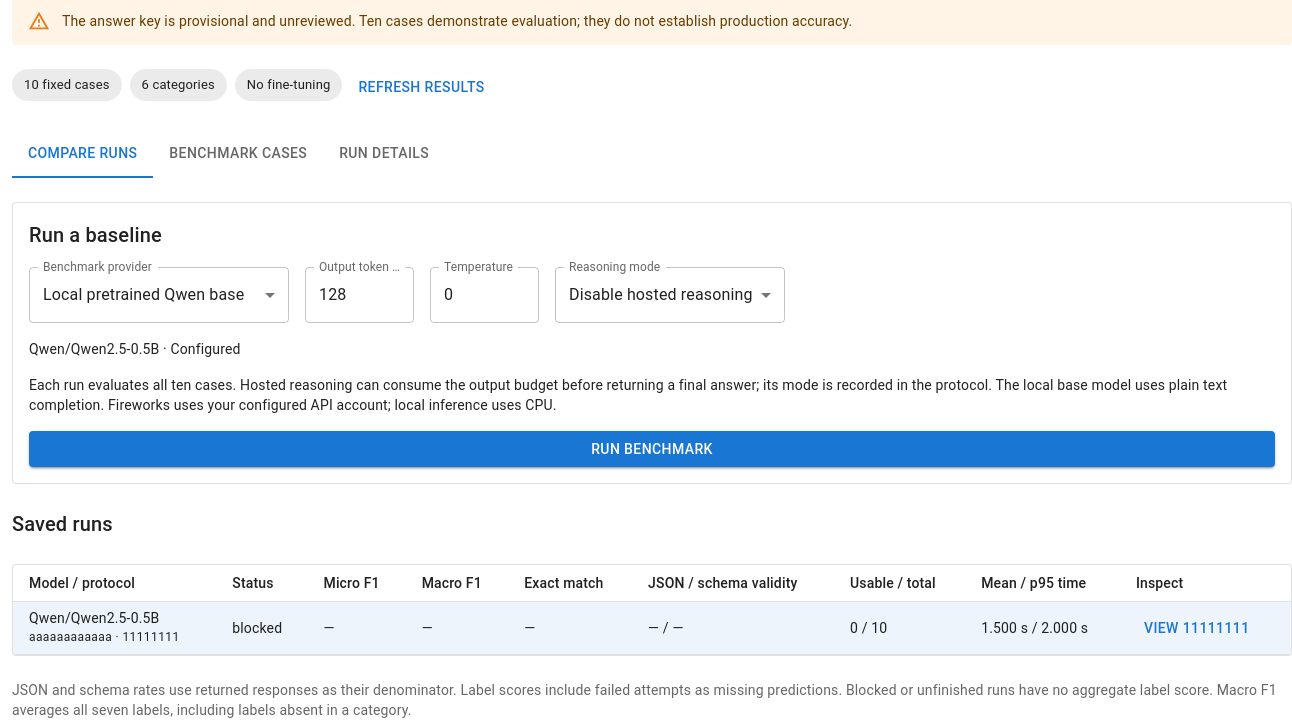
Test: does not present blocked runs as zero model scores
(page scrolled)
Expected: the table named "Baseline comparison" shows "blocked", left=232, top=620, right=282, bottom=636
Expected: the table named "Baseline comparison" does not show "0.0%", left=13, top=565, right=1291, bottom=655
Click the button "View 11111111" at [1197, 628], box left=1136, top=610, right=1258, bottom=646
(page scrolled)
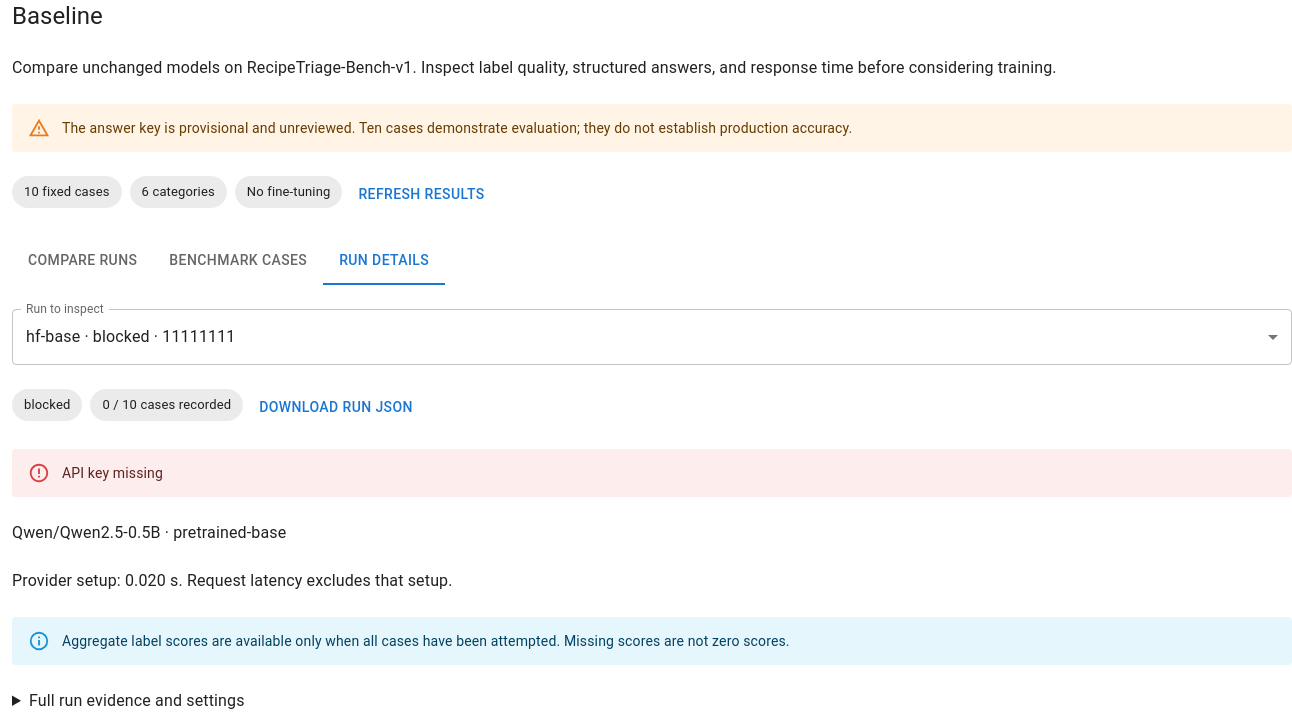
Expected: the text "Missing scores are not zero scores" is shown, left=62, top=633, right=790, bottom=649
